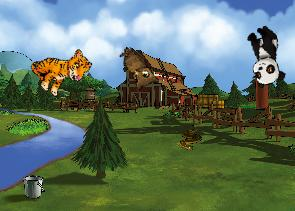owl: (109, 44, 162, 96)
panda: (242, 23, 287, 88)
tiger: (25, 34, 95, 103)
